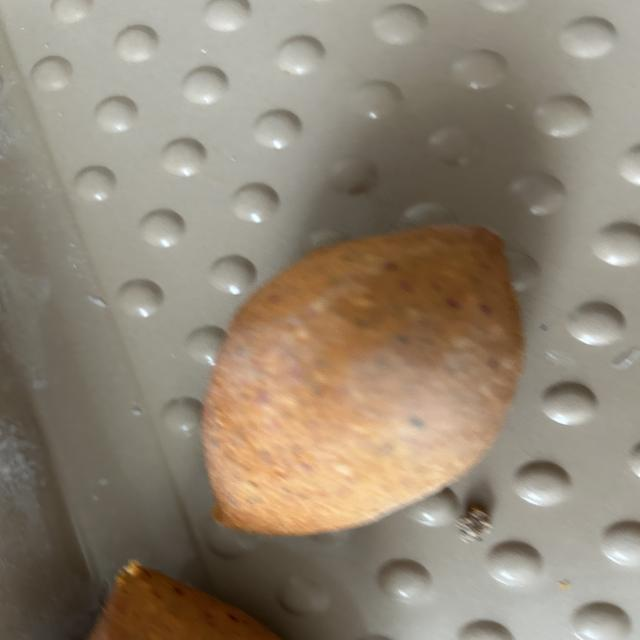kobi: (199, 222, 526, 537)
